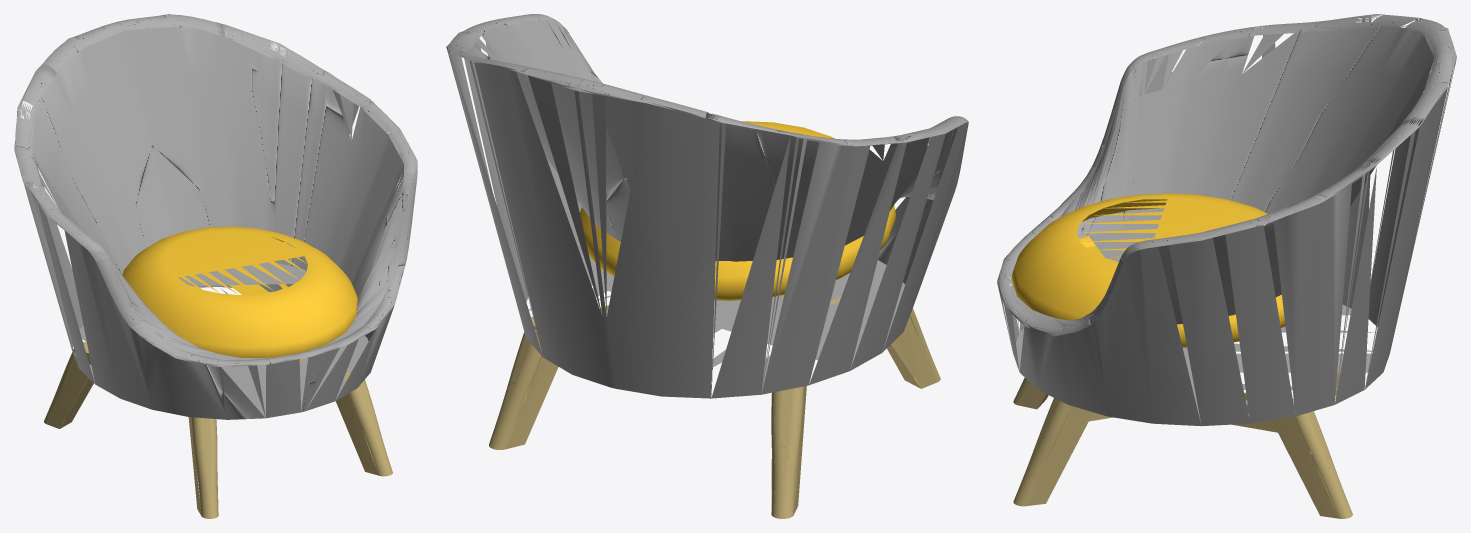
File: ChairFancy.fbx
3 views of the same model, side by side, from view 1: azimuth 30°, elevation 25°; view 2: azimuth 150°, elevation 25°; view 3: azimuth 270°, elevation 25° (orthographic). The views are drawn at different scales.
Visible parts, largest first — view 1: Layer0; view 2: Layer0; view 3: Layer0.
Part boxes in pixels (x1,y1,x2,y2): Layer0: (14,14,417,518); Layer0: (446,14,968,518); Layer0: (997,14,1456,518).
Size of the model in its own units: 817 by 780 by 750.
